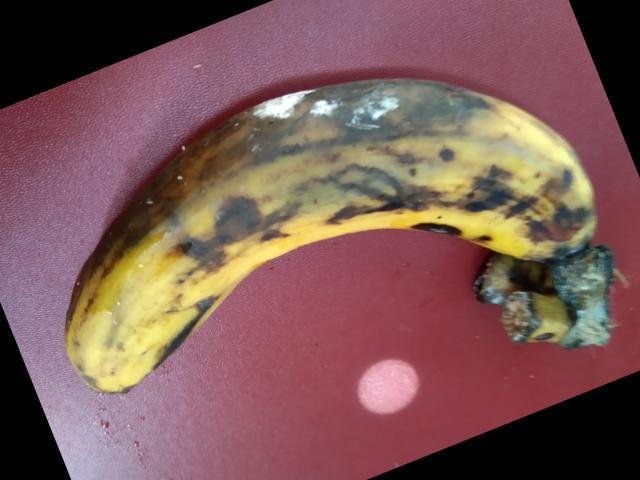rotten: (45, 69, 594, 434)
